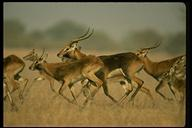antelope: (56, 26, 158, 107), (29, 53, 120, 108), (134, 37, 186, 102)
grass: (5, 110, 185, 125)
